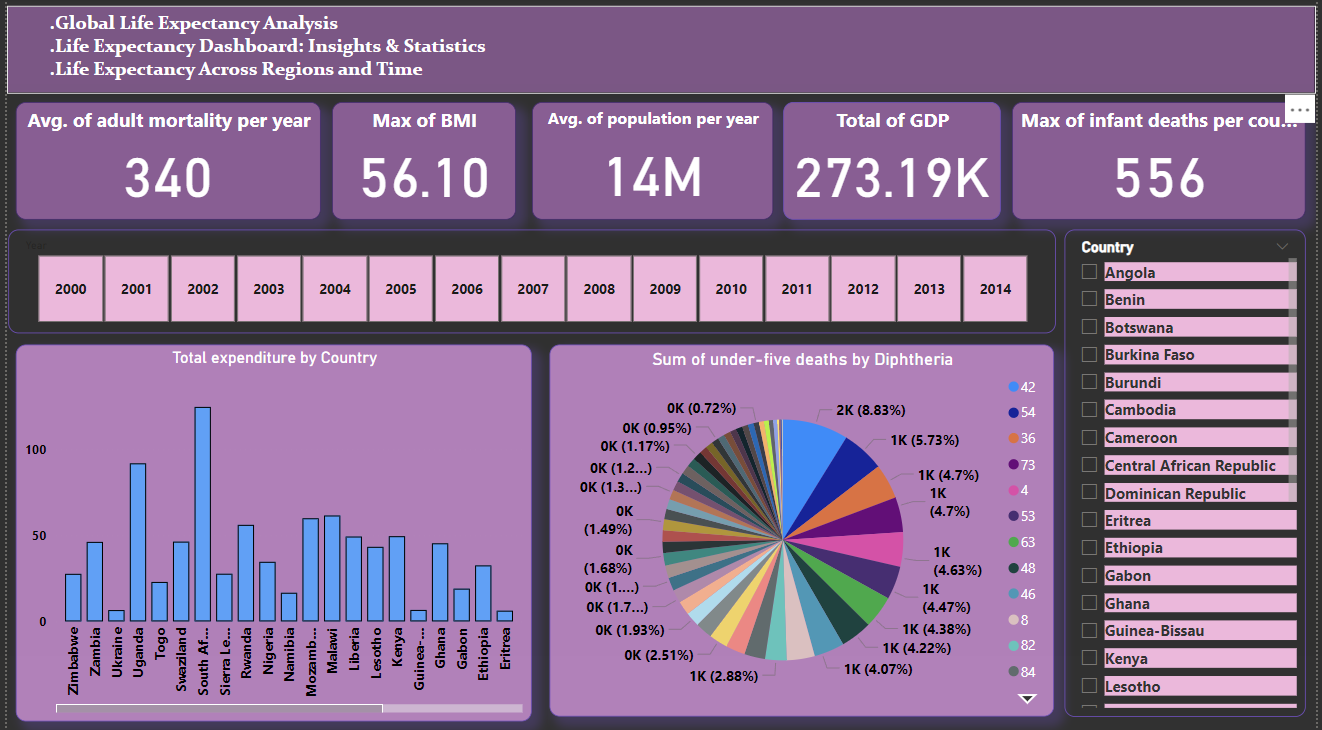

Layout of this report page (visuals, bound fields, positions):
{"tool":"powerbi","page":{"name":"Page 1","canvas":[1280,720],"ordinal":0},"visuals":[{"type":"card","title":"Max of infant deaths per country","fields":{"Values":["Life Expectancy Data_report.Max of infant deaths max per Country"]},"box":[983.2,102.7,287.4,114.9],"z":0},{"type":"card","title":"Avg. of population  per year","fields":{"Values":["Life Expectancy Data_report.Average of Population average per Year"]},"box":[513.6,102.7,236,114.9],"z":1000},{"type":"card","title":"Total of  GDP","fields":{"Values":["Sum(Life Expectancy Data_report.GDP)"]},"box":[759.4,102.7,212.8,114.9],"z":2000},{"type":"card","title":"Avg. of adult mortality per year","fields":{"Values":["Life Expectancy Data_report.Average of Adult Mortality average per Year"]},"box":[8.6,102.7,298.4,114.9],"z":3000},{"type":"card","title":"Max of BMI","fields":{"Values":["Max(Life Expectancy Data_report. BMI )"]},"box":[317.9,102.7,179.8,114.9],"z":4000},{"type":"columnChart","title":"Total expenditure by Country","fields":{"Category":["Life Expectancy Data_report.Country"],"Y":["Sum(Life Expectancy Data_report.Total expenditure)"]},"box":[8.2,340.3,505,369.1],"z":6000},{"type":"pieChart","fields":{"Category":["Life Expectancy Data_report.Diphtheria "],"Y":["Sum(Life Expectancy Data_report.under-five deaths )"]},"box":[531,340.3,494,363.6],"z":7000},{"type":"slicer","fields":{"Values":["Life Expectancy Data_report.Year"]},"box":[1.2,227.4,1024.7,101.5],"z":8000},{"type":"slicer","fields":{"Values":["Life Expectancy Data_report.Country"]},"box":[1034.5,227.4,236,476.9],"z":9000},{"type":"textbox","box":[0,8.6,1280.3,85.6],"z":9001}]}

Visuals, with their boxes in screenshot pixels (x1, y1, x2, y2), scaled from the page's 1280x720 canvas onto the 1322x730 screenshot:
"Max of infant deaths per country" card: left=1015, top=104, right=1312, bottom=221
"Avg. of population  per year" card: left=530, top=104, right=774, bottom=221
"Total of  GDP" card: left=784, top=104, right=1004, bottom=221
"Avg. of adult mortality per year" card: left=9, top=104, right=317, bottom=221
"Max of BMI" card: left=328, top=104, right=514, bottom=221
"Total expenditure by Country" columnChart: left=8, top=345, right=530, bottom=719
pieChart - Life Expectancy Data_report.Diphtheria  x Sum(Life Expectancy Data_report.under-five deaths ): left=548, top=345, right=1059, bottom=714
slicer - Life Expectancy Data_report.Year: left=1, top=231, right=1060, bottom=333
slicer - Life Expectancy Data_report.Country: left=1068, top=231, right=1312, bottom=714
textbox: left=0, top=9, right=1321, bottom=96
